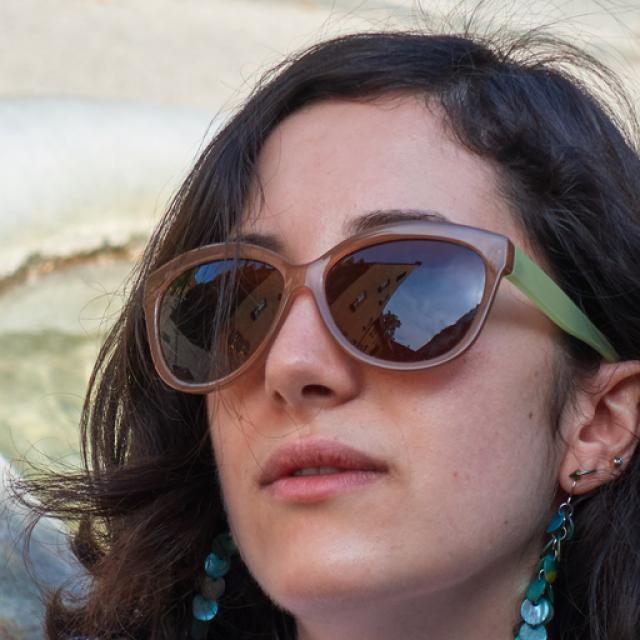neutral: (206, 94, 566, 602)
